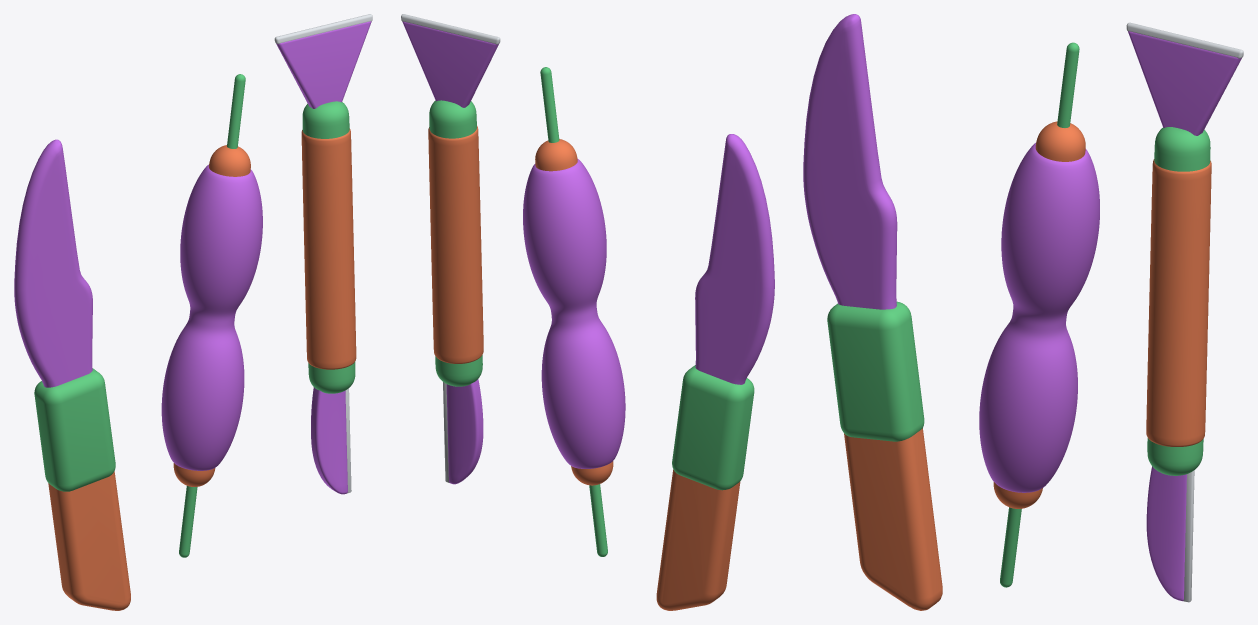
Rendered from 25. Clay Tools.glb.
3 views of the same model, side by side, from view 1: azimuth 30°, elevation 25°; view 2: azimuth 150°, elevation 25°; view 3: azimuth 330°, elevation 25° (orthographic). The views are drawn at different scales.
Visible parts, largest first — view 1: Tool 2, Cube.001, Tool 3, Cube, Tool 1, Cube.002, Cube.004, Cylinder.002, Cylinder, Sphere.001, Cube.003; view 2: Tool 2, Cube.001, Tool 3, Cube, Tool 1, Cube.002, Cube.004, Cylinder.002, Cylinder, Sphere.001, Cube.003; view 3: Tool 2, Cube.001, Tool 3, Cube, Tool 1, Cube.002, Cube.004, Cylinder.002, Sphere.001, Cylinder, Cube.003, Cube.005.
Boxes of the visible parts, <box> form: Tool 2: <box>161,164,262,470</box>; Cube.001: <box>14,139,92,387</box>; Tool 3: <box>301,128,356,369</box>; Cube: <box>48,471,130,610</box>; Tool 1: <box>34,368,115,491</box>; Cube.002: <box>276,21,371,108</box>; Cube.004: <box>311,387,347,494</box>; Cylinder.002: <box>302,101,355,393</box>; Cylinder: <box>179,74,245,557</box>; Sphere.001: <box>173,145,250,486</box>; Cube.003: <box>274,14,372,44</box>; Tool 2: <box>523,158,625,468</box>; Cube.001: <box>695,134,774,384</box>; Tool 3: <box>428,126,483,363</box>; Cube: <box>656,469,740,610</box>; Tool 1: <box>672,365,754,490</box>; Cube.002: <box>402,21,498,107</box>; Cube.004: <box>446,379,483,484</box>; Cylinder.002: <box>429,100,482,386</box>; Cylinder: <box>540,67,607,556</box>; Sphere.001: <box>535,139,613,485</box>; Cube.003: <box>401,14,500,44</box>; Tool 2: <box>979,142,1099,492</box>; Cube.001: <box>803,14,897,309</box>; Tool 3: <box>1146,159,1211,446</box>; Cube: <box>844,428,942,610</box>; Tool 1: <box>827,301,924,441</box>; Cube.002: <box>1128,31,1241,135</box>; Cube.004: <box>1146,466,1186,601</box>; Cylinder.002: <box>1147,127,1210,475</box>; Sphere.001: <box>993,121,1085,508</box>; Cylinder: <box>1000,42,1079,587</box>; Cube.003: <box>1126,22,1243,58</box>; Cube.005: <box>1183,470,1194,602</box>.
Size of the model in its own units: 0.5969 by 0.8285 by 0.1155.
